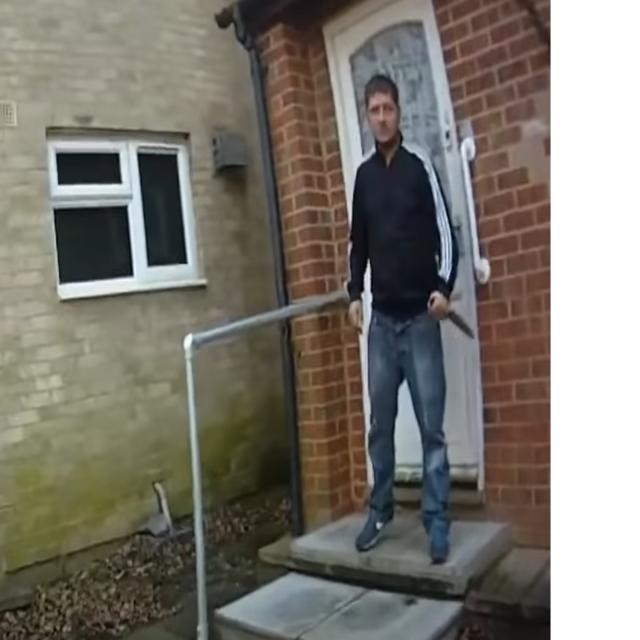Knife_Handle: (427, 288, 475, 341)
